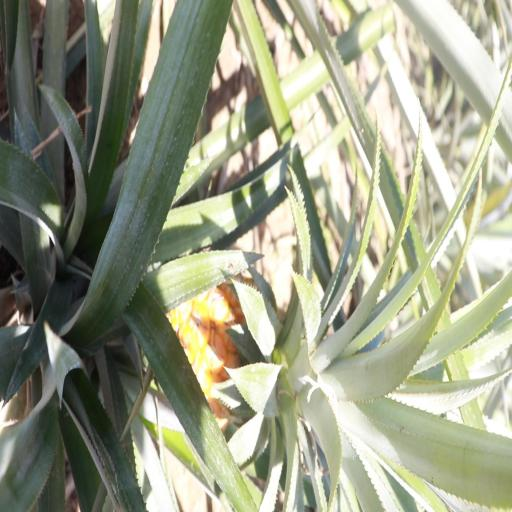Pineapple - v8 v1: (165, 252, 376, 446)
